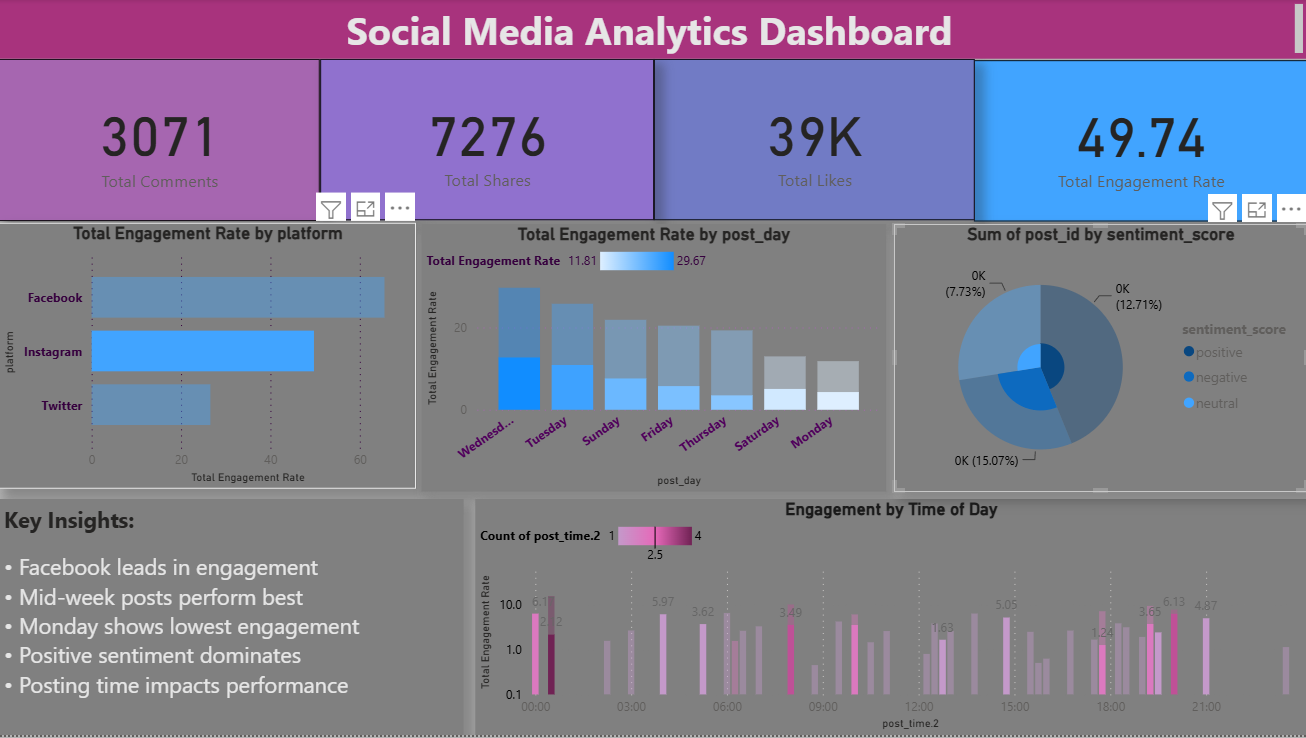

What the dashboard file says about the page in this screenshot:
{"tool":"powerbi","page":{"name":"Page 1","canvas":[1280,720],"ordinal":0},"visuals":[{"type":"card","title":"Total Comments","fields":{"Values":["social_media_engagement1 (2).Total Comments"]},"box":[0,58.8,313.8,158.8],"z":0},{"type":"card","fields":{"Values":["social_media_engagement1 (2).Total Engagement Rate"]},"box":[953.8,60,326.2,157.5],"z":1000},{"type":"card","fields":{"Values":["social_media_engagement1 (2).Total Likes"]},"box":[640,58.8,313.8,157.5],"z":2000},{"type":"card","fields":{"Values":["social_media_engagement1 (2).Total Shares"]},"box":[314.2,58.7,326.4,157.7],"z":3000},{"type":"barChart","fields":{"Category":["social_media_engagement1 (2).platform"],"Y":["social_media_engagement1 (2).Total Engagement Rate"]},"box":[0,218.8,408.8,260],"z":4000},{"type":"pieChart","fields":{"Category":["social_media_engagement1 (2).sentiment_score"],"Y":["Sum(social_media_engagement1 (2).post_id)"]},"box":[875,220,405,261.2],"z":5000},{"type":"columnChart","fields":{"Y":["social_media_engagement1 (2).Total Engagement Rate"],"Category":["social_media_engagement1 (2).post_day"]},"box":[413.2,220,454.7,261.6],"z":6000},{"type":"textbox","box":[0,0,1280,58.8],"z":7000},{"type":"textbox","box":[0,488.5,454.2,231.9],"z":8000},{"type":"clusteredColumnChart","title":"Engagement by Time of Day","fields":{"Category":["social_media_engagement1 (2).post_time.2"],"Y":["social_media_engagement1 (2).Total Engagement Rate"]},"box":[465.7,489,814.1,231],"z":9000}]}

Visuals, with their boxes in screenshot pixels (x1, y1, x2, y2), scaled from the page's 1280x720 canvas onto the 1306x738 screenshot:
"Total Comments" card: l=0, t=60, r=320, b=223
card - social_media_engagement1 (2).Total Engagement Rate: l=973, t=61, r=1305, b=223
card - social_media_engagement1 (2).Total Likes: l=653, t=60, r=973, b=222
card - social_media_engagement1 (2).Total Shares: l=321, t=60, r=654, b=222
barChart - social_media_engagement1 (2).platform x social_media_engagement1 (2).Total Engagement Rate: l=0, t=224, r=417, b=491
pieChart - social_media_engagement1 (2).sentiment_score x Sum(social_media_engagement1 (2).post_id): l=893, t=225, r=1305, b=493
columnChart - social_media_engagement1 (2).Total Engagement Rate x social_media_engagement1 (2).post_day: l=422, t=225, r=886, b=494
textbox: l=0, t=0, r=1305, b=60
textbox: l=0, t=501, r=463, b=737
"Engagement by Time of Day" clusteredColumnChart: l=475, t=501, r=1305, b=737
